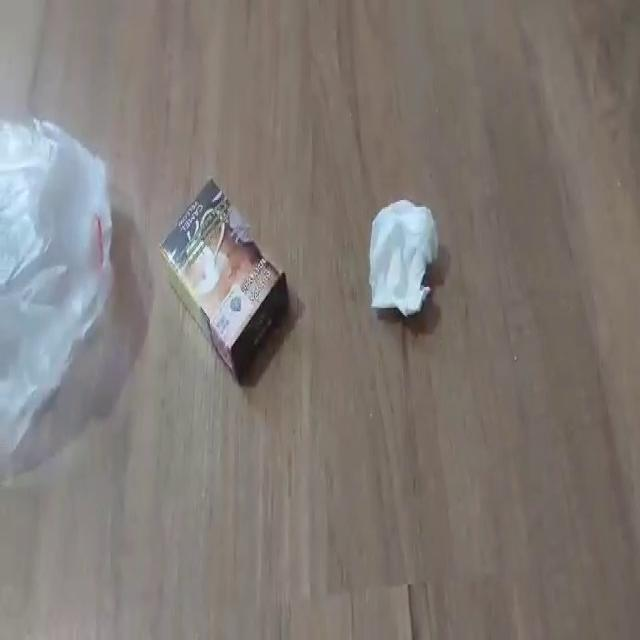Anorganik: (1, 112, 121, 464)
Organik: (157, 172, 293, 391), (367, 192, 442, 326)
